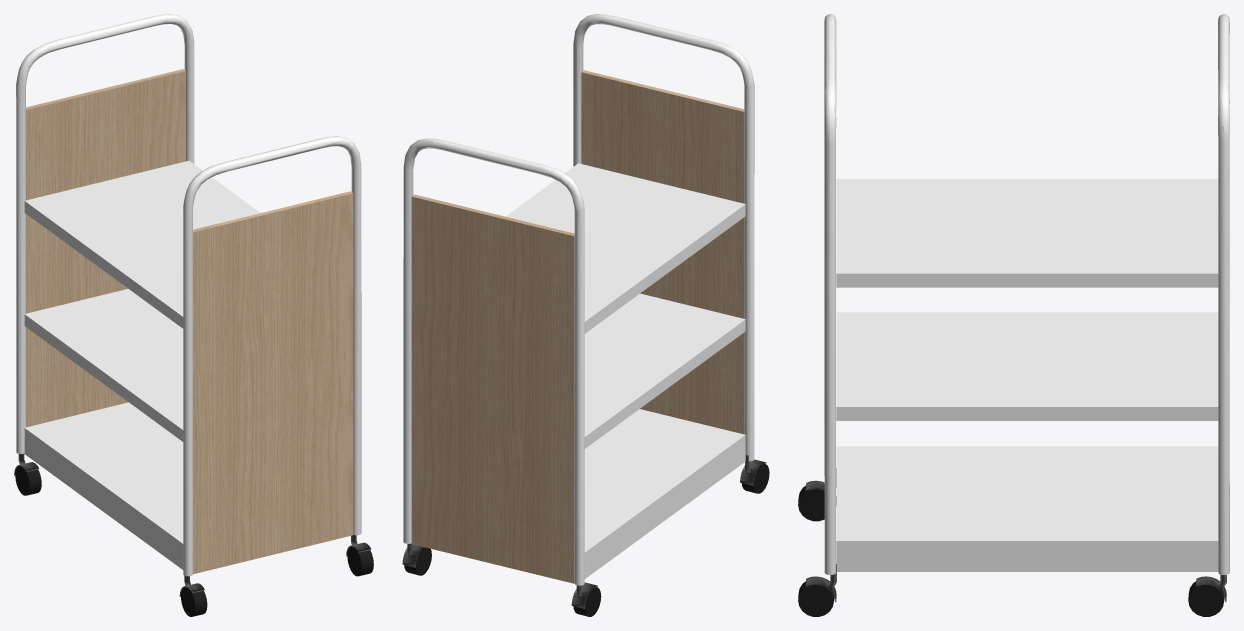
File: book trolley.FBX
3 renders of one model, left to right at view 1: azimuth 30°, elevation 25°; view 2: azimuth 150°, elevation 25°; view 3: azimuth 270°, elevation 25°, orthographic. The views are drawn at different scales.
Parts seen in each view (by area): view 1: book trolley; view 2: book trolley; view 3: book trolley.
Boxes of the visible parts, x1,y1,x2,y2 form: book trolley: (14, 14, 373, 616); book trolley: (402, 14, 769, 616); book trolley: (798, 14, 1229, 616).
Bounding box in the file's own units: 18.82 × 33.25 × 43.91.
1 material, 1 textured.
